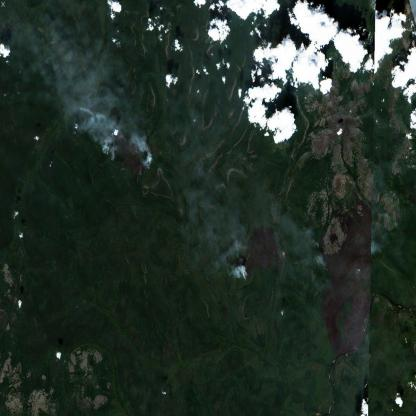fire: (96, 138, 120, 165), (138, 148, 155, 178), (233, 257, 249, 282)
